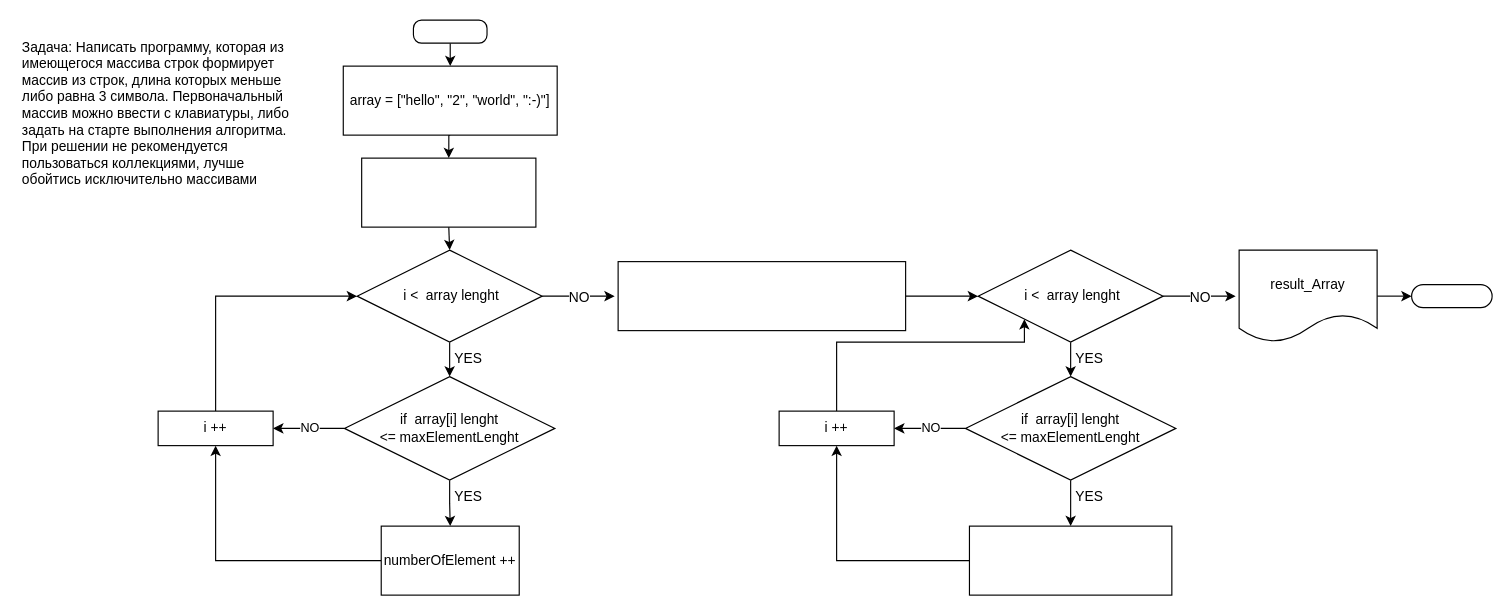
The diagram is 1512 pixels wide and 615 high, and some of its shapes have lost their labels. The shapes that lost their labels are listed below. From the top down, each one's box as (x1, y1, x2, y2) in pixels, then its label:
(412, 19, 487, 43): start
(361, 157, 536, 227): maxElementLenght = 3 numberOfElement = 0 i = 0
(617, 260, 906, 331): resultArray = new string[numberOfElement] numberEl = 0 i = 0
(1410, 283, 1492, 308): end
(968, 525, 1172, 595): resultArray[numberEl] = array[i] numberEl++
